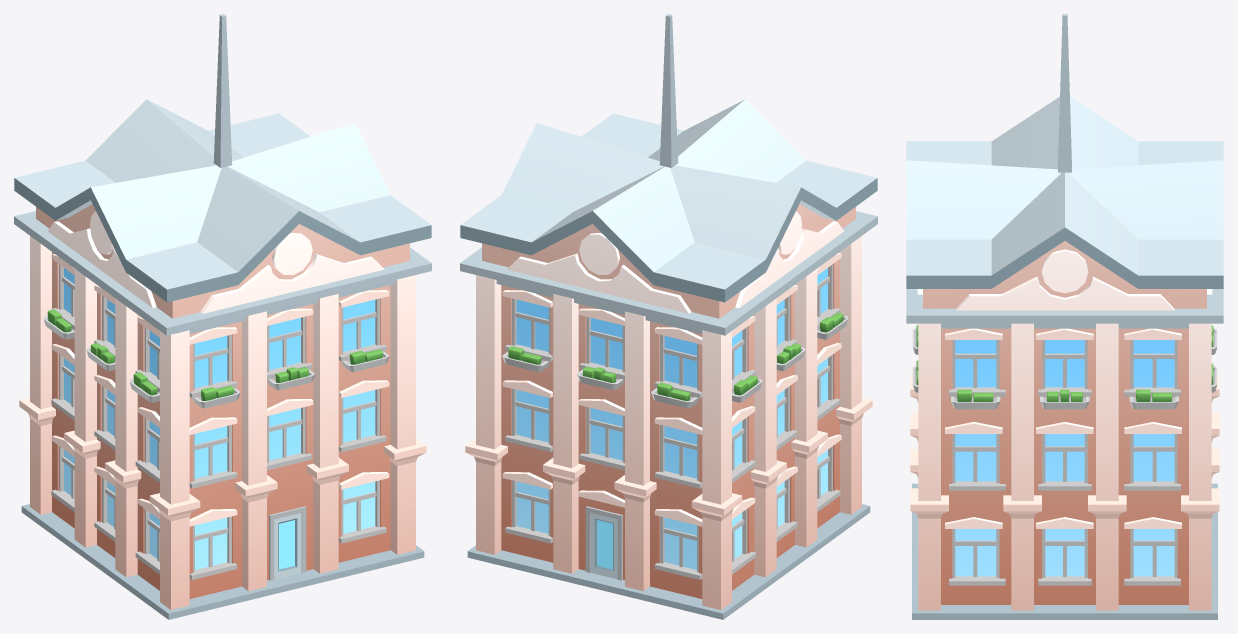
Rendered from Building_State_07.glb.
3 views of the same model, side by side, from view 1: azimuth 30°, elevation 25°; view 2: azimuth 150°, elevation 25°; view 3: azimuth 270°, elevation 25° (orthographic). The views are drawn at different scales.
Visible parts, largest first — view 1: Building_State_07; view 2: Building_State_07; view 3: Building_State_07.
Part boxes in pixels (x1,y1,x2,y2): Building_State_07: (14, 14, 431, 619); Building_State_07: (460, 14, 877, 619); Building_State_07: (906, 14, 1223, 619).
Bounding box in the file's own units: 9.9 × 18.54 × 9.87.
Materials: 1 (1 with a texture image).
